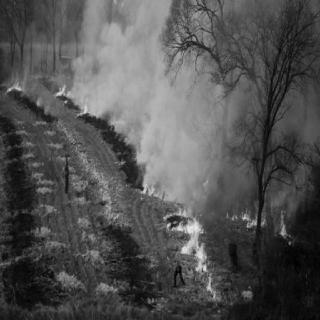Fire: (1, 72, 30, 102), (202, 177, 212, 191)
